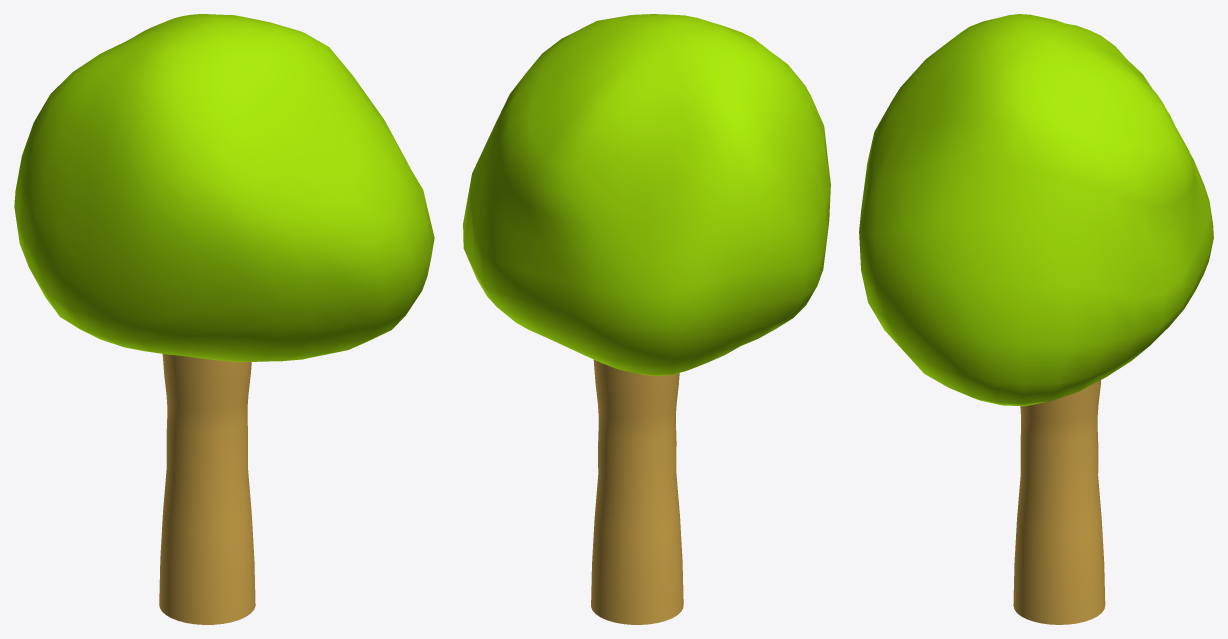
Rendered from Tree.fbx.
The picture shows the model from 3 angles, left to right: view 1: azimuth 30°, elevation 25°; view 2: azimuth 150°, elevation 25°; view 3: azimuth 270°, elevation 25°; orthographic projection. The views are drawn at different scales.
Parts seen in each view (by area): view 1: Sphere; view 2: Sphere; view 3: Sphere.
Boxes of the visible parts, left/top/right/bottom form: Sphere: left=14, top=14, right=434, bottom=624; Sphere: left=463, top=14, right=830, bottom=624; Sphere: left=859, top=14, right=1213, bottom=624.
Bounding box in the file's own units: 1317 × 1452 × 2322.
